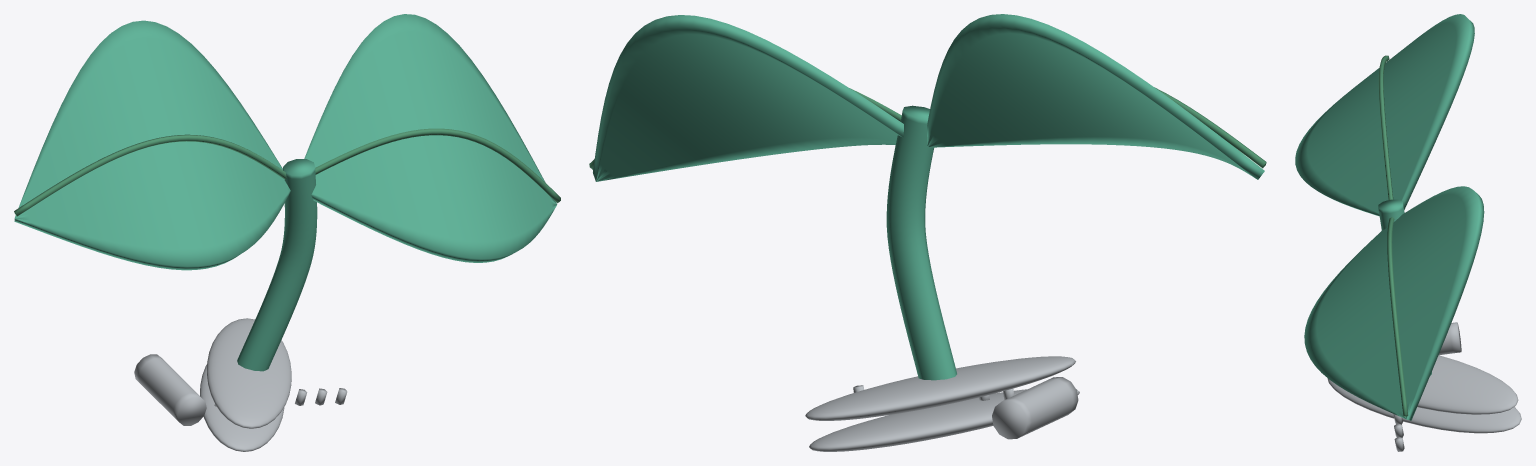
Rendered from Feminine-straight--ears-sprout.glb.
3 renders of one model, left to right at view 1: azimuth 30°, elevation 25°; view 2: azimuth 150°, elevation 25°; view 3: azimuth 270°, elevation 25°, orthographic. The views are drawn at different scales.
Visible parts, largest first — view 1: 226 extra / Accessory / mint226, 226 extra / Sprout / clip silver235, 226 extra / Sprout / leaf vein235; view 2: 226 extra / Accessory / mint226, 226 extra / Sprout / clip silver235, 226 extra / Sprout / leaf vein235; view 3: 226 extra / Accessory / mint226, 226 extra / Sprout / clip silver235, 226 extra / Sprout / leaf vein235.
Part boxes in pixels (bbox=[...]): 226 extra / Accessory / mint226: bbox=[14, 14, 557, 371]; 226 extra / Sprout / clip silver235: bbox=[134, 318, 347, 451]; 226 extra / Sprout / leaf vein235: bbox=[14, 128, 560, 216]; 226 extra / Accessory / mint226: bbox=[593, 14, 1264, 380]; 226 extra / Sprout / clip silver235: bbox=[805, 356, 1079, 451]; 226 extra / Sprout / leaf vein235: bbox=[589, 87, 1266, 169]; 226 extra / Accessory / mint226: bbox=[1295, 14, 1484, 420]; 226 extra / Sprout / clip silver235: bbox=[1327, 322, 1521, 451]; 226 extra / Sprout / leaf vein235: bbox=[1378, 55, 1408, 416].
Bounding box in the file's own units: 0.2651 × 0.1799 × 0.1042.
